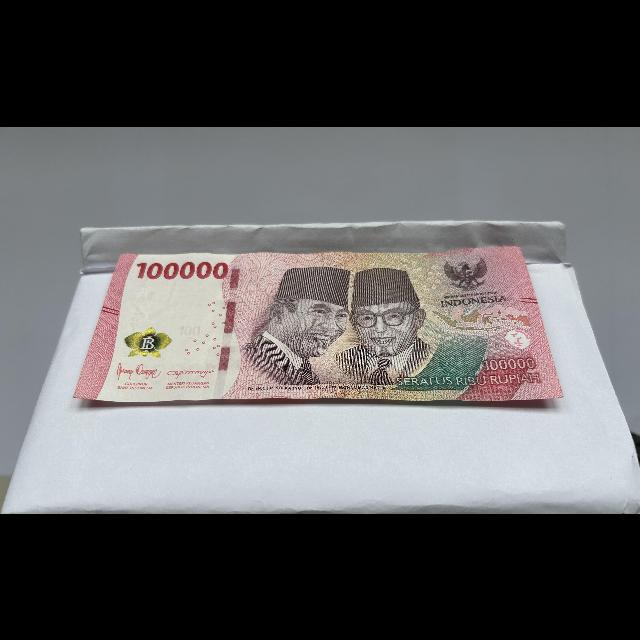Asli-100k: (66, 242, 570, 413)
Tinta-Asli-100k: (118, 324, 177, 359)
